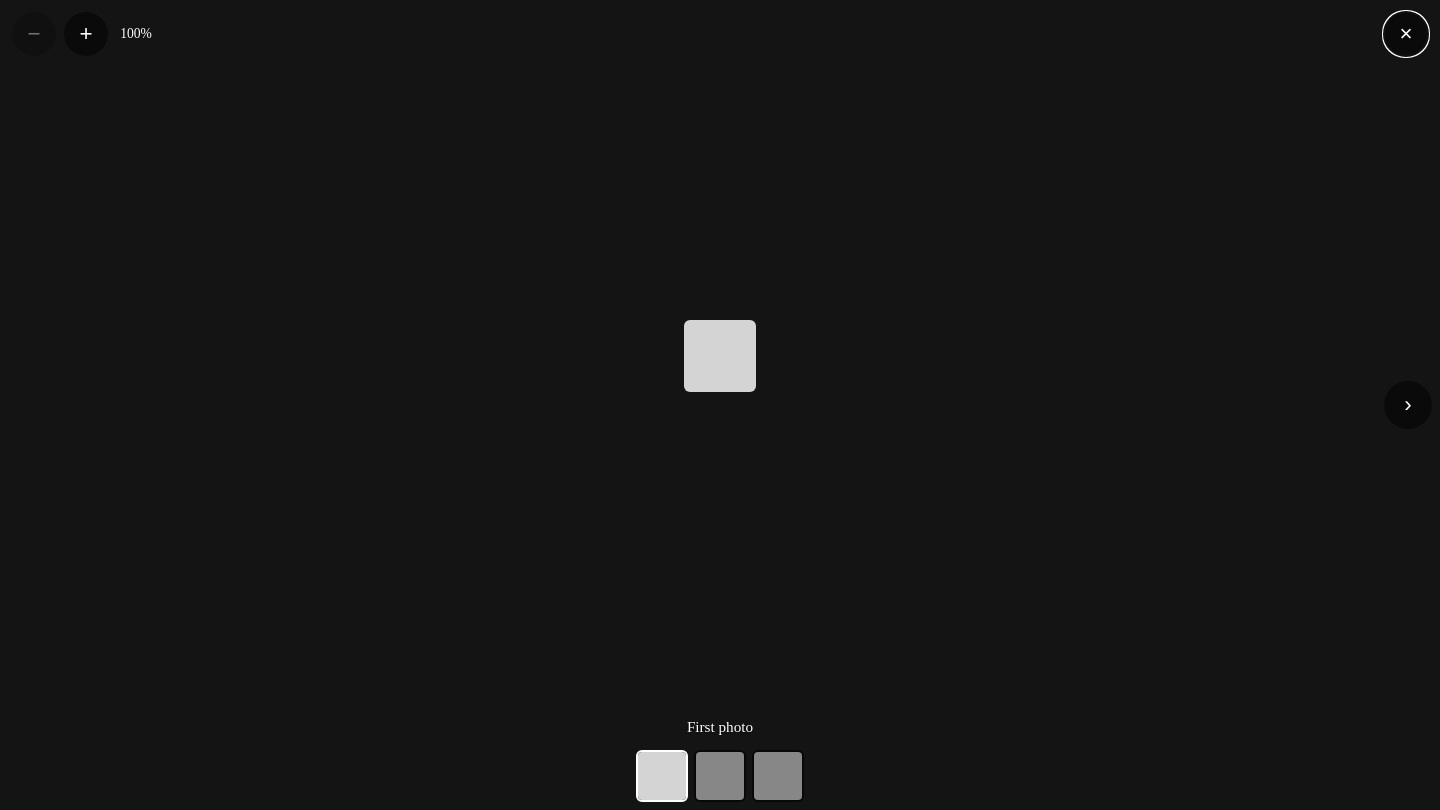
Test case: Lightbox component › non-drag +/- zoom buttons change the visible scale readout
Expected: the text with test id "lightbox-scale" reads "100%", [120,26,152,41]
Expected: the button named "Zoom out" is disabled, [12,12,56,56]
Click the button named "Zoom in" at (86, 34), box [64,12,108,56]
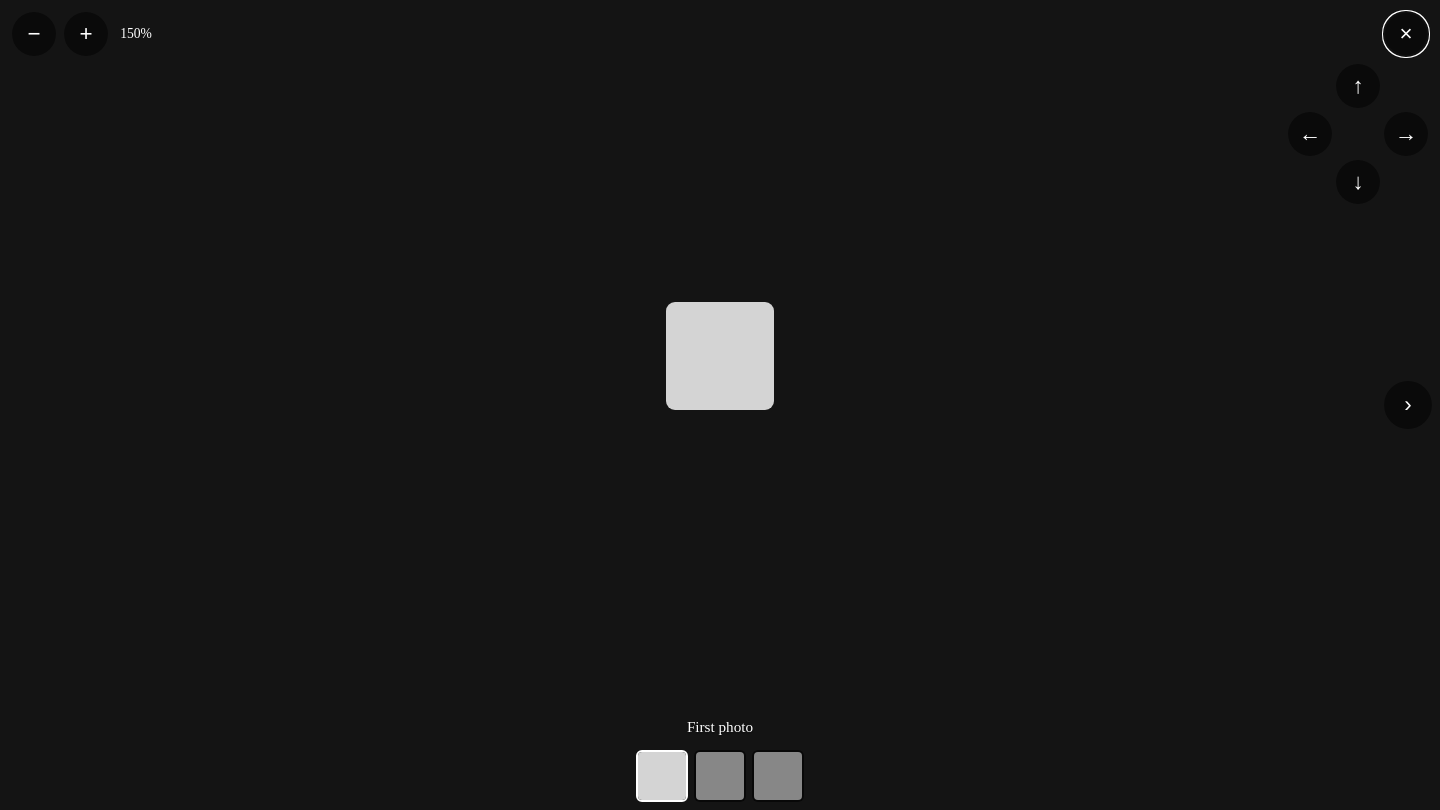
Now the text with test id "lightbox-scale" reads "150%", box [120,26,152,41]
Click the button named "Zoom in" at (86, 34), box [64,12,108,56]
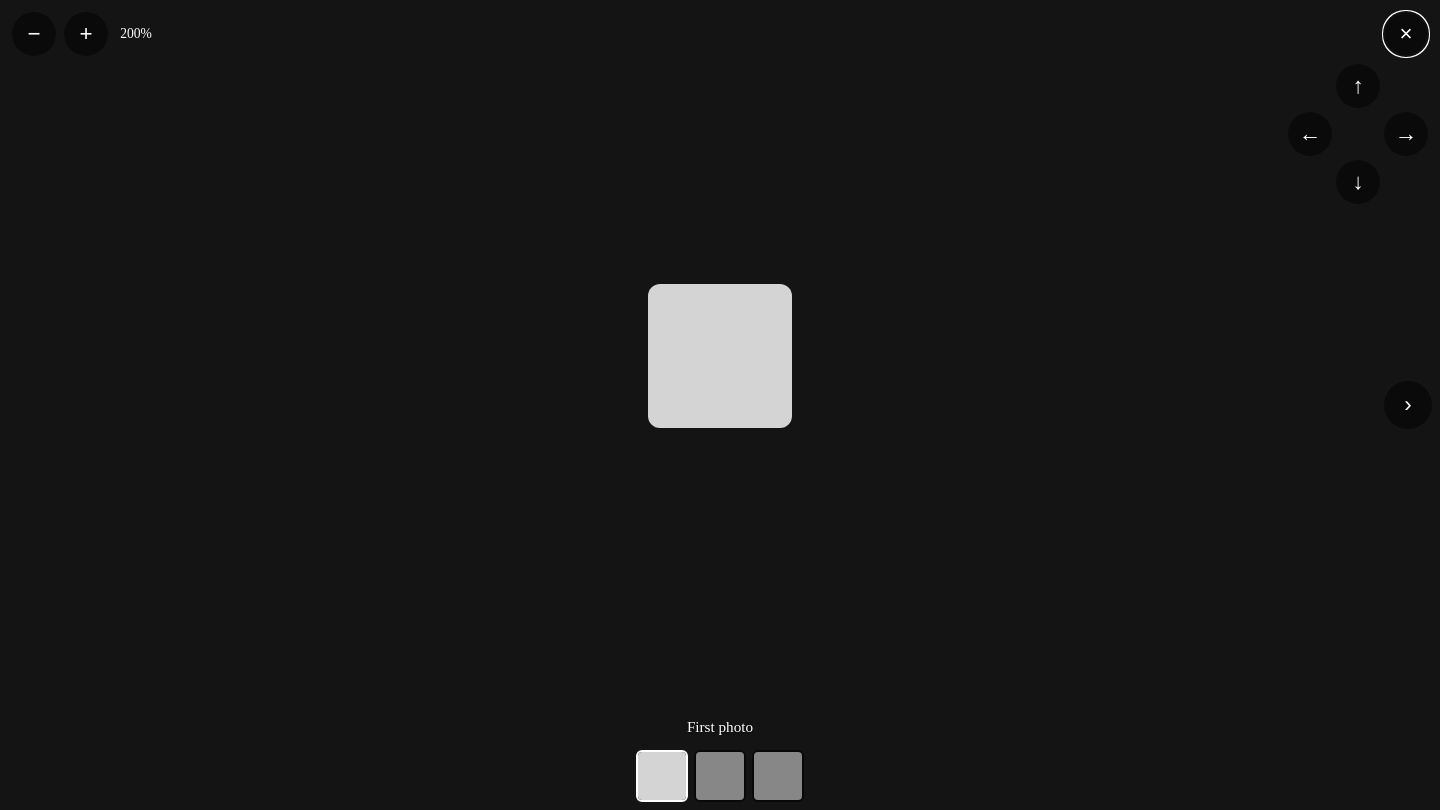
Now the element with test id "lightbox-pan-pad" is shown, box [1288,64,1428,204]
Now the button named "Pan left" is shown, box [1288,112,1332,156]
Now the text with test id "lightbox-scale" reads "200%", box [120,26,152,41]
Click the button named "Zoom out" at (34, 34), box [12,12,56,56]
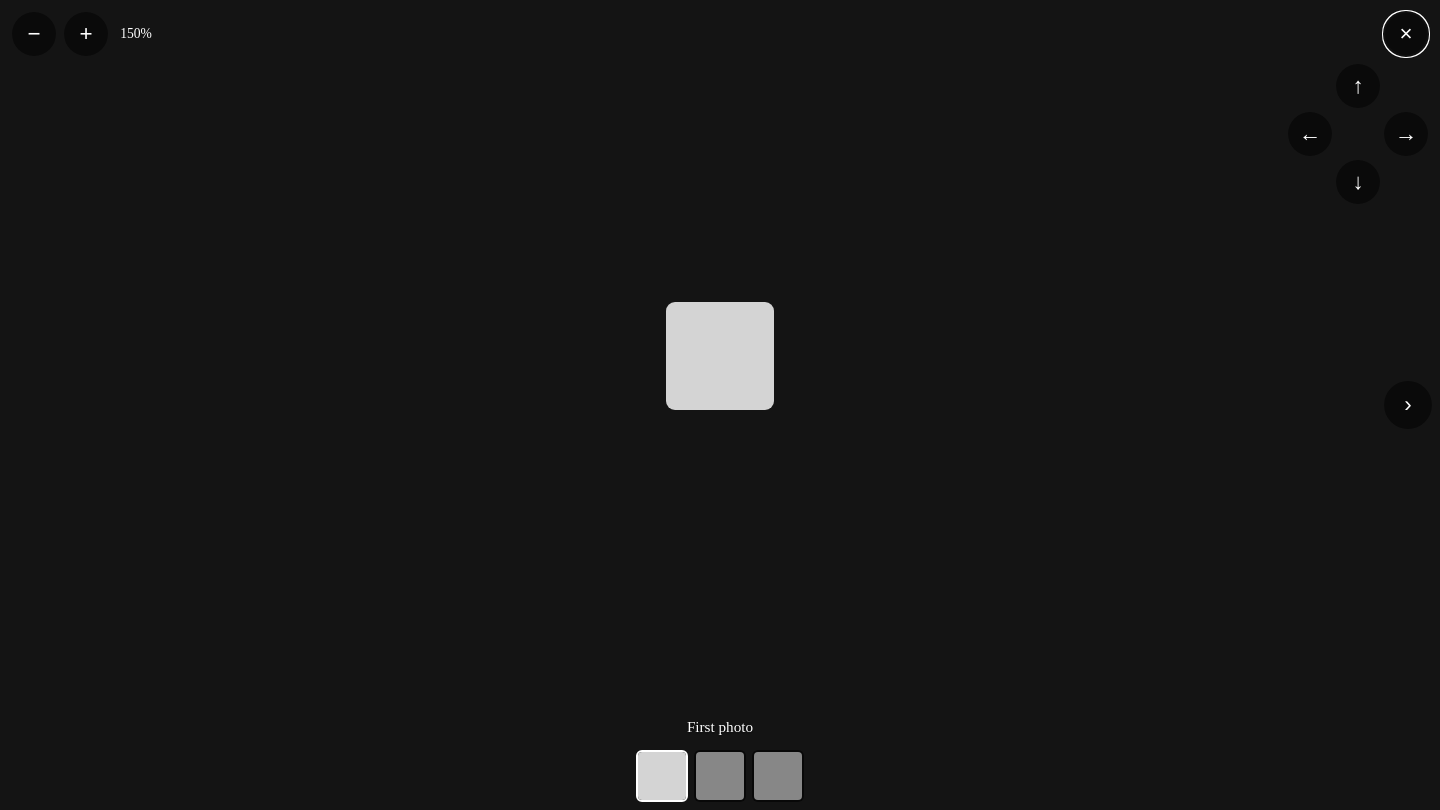
Now the text with test id "lightbox-scale" reads "150%", box [120,26,152,41]
